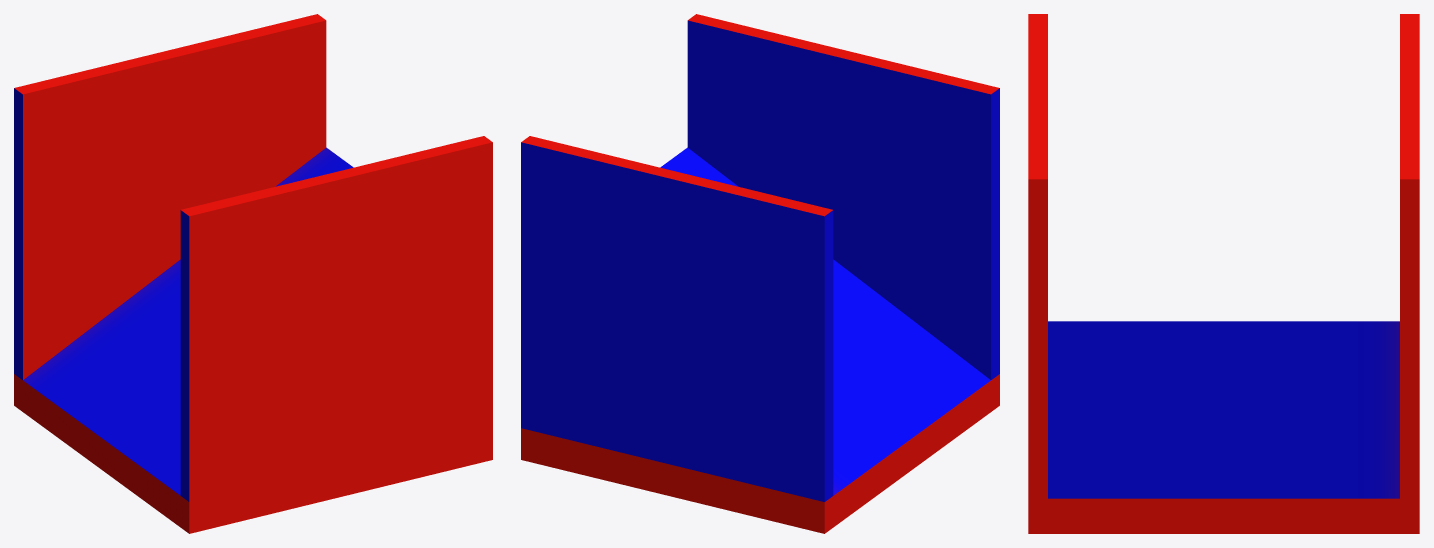
The model's file is ramp1.obj.
3 renders of one model, left to right at view 1: azimuth 30°, elevation 25°; view 2: azimuth 150°, elevation 25°; view 3: azimuth 270°, elevation 25°, orthographic. The views are drawn at different scales.
Parts seen in each view (by area): view 1: wall_taller, wall_taller.001, ramp1, floor; view 2: wall_taller.001, wall_taller, ramp1, floor; view 3: ramp1, floor, wall_taller, wall_taller.001.
Boxes of the visible parts, <box> form: wall_taller: <box>180,136,492,501</box>; wall_taller.001: <box>14,14,326,379</box>; ramp1: <box>23,147,353,495</box>; floor: <box>14,374,492,533</box>; wall_taller.001: <box>521,136,833,501</box>; wall_taller: <box>687,14,999,379</box>; ramp1: <box>660,147,990,495</box>; floor: <box>521,374,999,533</box>; ramp1: <box>1048,321,1399,498</box>; floor: <box>1028,498,1419,533</box>; wall_taller: <box>1028,14,1047,498</box>; wall_taller.001: <box>1400,14,1419,498</box>.
Bounding box in the file's own units: 10 × 10 × 10.
